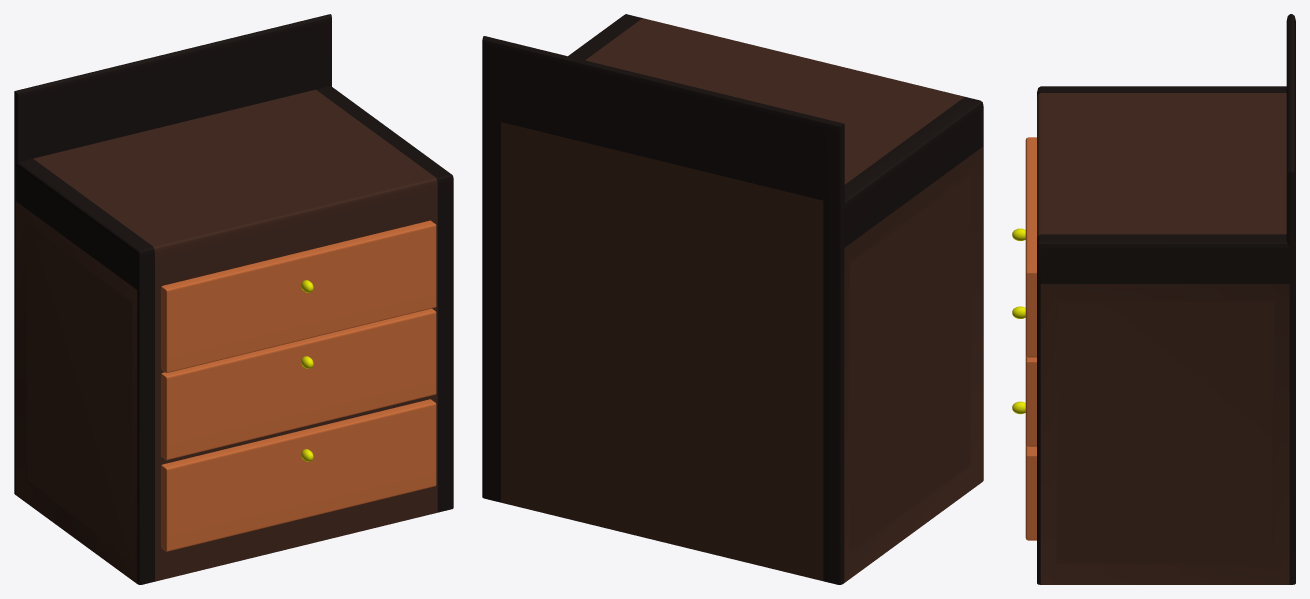
Rendered from MesaDeNoche.fbx.
3 views of the same model, side by side, from view 1: azimuth 30°, elevation 25°; view 2: azimuth 150°, elevation 25°; view 3: azimuth 270°, elevation 25° (orthographic). The views are drawn at different scales.
Parts seen in each view (by area): view 1: polySurface1; view 2: polySurface1; view 3: polySurface1.
Part boxes in pixels (x1,y1,x2,y2): polySurface1: [14, 14, 453, 584]; polySurface1: [482, 14, 983, 584]; polySurface1: [1012, 14, 1295, 584].
Bounding box in the file's own units: 38.94 × 47.53 × 29.58.
